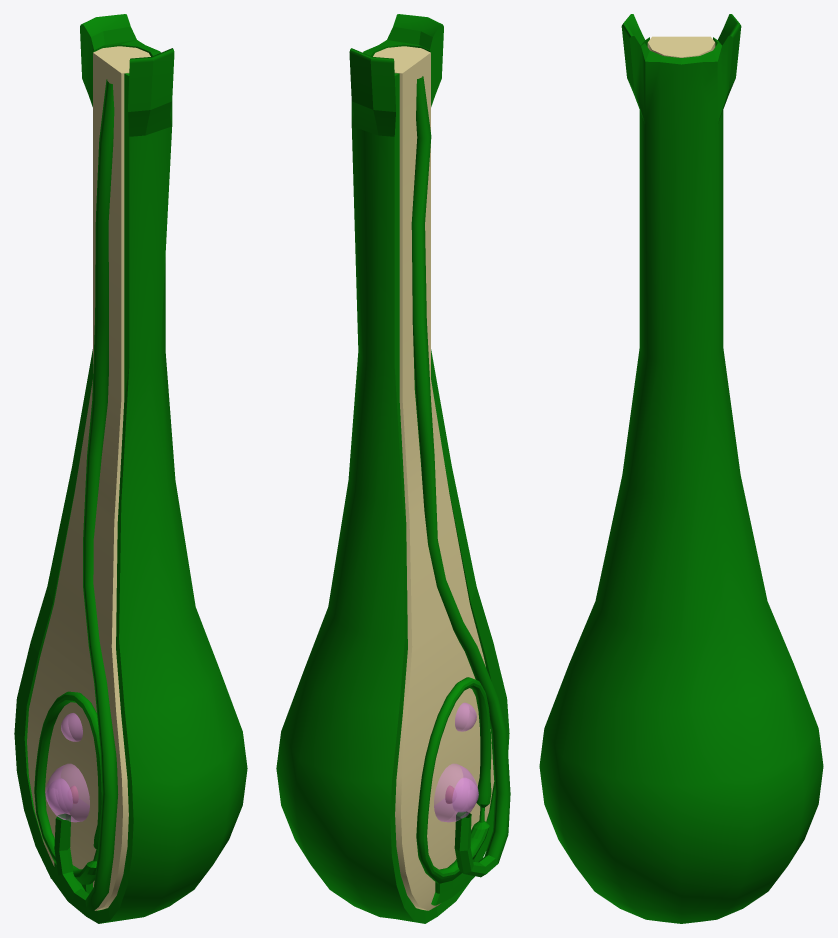
The model's file is flower polination.fbx.
The picture shows the model from 3 angles, left to right: view 1: azimuth 30°, elevation 25°; view 2: azimuth 150°, elevation 25°; view 3: azimuth 270°, elevation 25°; orthographic projection. The views are drawn at different scales.
Visible parts, largest first — view 1: style, polySurface2, filament4, ovule, ovary, ovary1, ovary2; view 2: style, polySurface2, filament4, ovule, ovary, ovary1, ovary2; view 3: style, polySurface2.
Boxes of the visible parts, left/top/right/bottom form: style: left=14, top=14, right=247, bottom=923; polySurface2: left=27, top=46, right=150, bottom=910; filament4: left=54, top=79, right=118, bottom=911; ovule: left=34, top=691, right=102, bottom=895; ovary: left=45, top=763, right=89, bottom=822; ovary1: left=46, top=778, right=72, bottom=812; ovary2: left=61, top=713, right=82, bottom=741; style: left=276, top=14, right=509, bottom=923; polySurface2: left=373, top=46, right=494, bottom=910; filament4: left=411, top=76, right=510, bottom=877; ovule: left=416, top=677, right=491, bottom=905; ovary: left=434, top=763, right=478, bottom=822; ovary1: left=452, top=778, right=478, bottom=811; ovary2: left=455, top=702, right=476, bottom=731; style: left=539, top=14, right=823, bottom=923; polySurface2: left=647, top=36, right=715, bottom=57.
Bounding box in the file's own units: 5.99 × 27.5 × 7.89.
